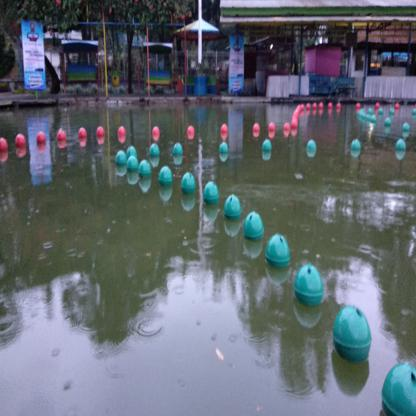green_buoy: (334, 301, 370, 366), (381, 355, 416, 416), (294, 263, 322, 309), (266, 234, 291, 271), (241, 211, 264, 245), (225, 194, 242, 220), (180, 172, 196, 194), (204, 180, 219, 202), (159, 166, 173, 186), (138, 161, 153, 177), (116, 150, 128, 167), (127, 155, 138, 173), (350, 140, 361, 156), (219, 141, 229, 158), (396, 140, 406, 156), (173, 142, 183, 158), (150, 143, 160, 159), (262, 140, 272, 155), (127, 145, 137, 159), (308, 140, 315, 155), (384, 116, 392, 126), (402, 122, 410, 130), (371, 114, 376, 122), (367, 108, 373, 114), (366, 113, 370, 122), (378, 108, 383, 115), (390, 108, 394, 114), (412, 108, 415, 116)
red_buoy: (16, 132, 26, 150), (36, 130, 46, 147), (0, 136, 8, 156), (58, 132, 67, 147), (118, 127, 126, 142), (96, 124, 104, 138), (78, 128, 87, 140), (152, 127, 159, 141), (187, 125, 195, 136), (220, 123, 228, 133), (290, 119, 298, 128), (283, 122, 291, 131), (268, 122, 276, 131), (253, 123, 260, 133), (296, 105, 302, 113), (292, 116, 298, 124), (318, 102, 324, 109), (312, 102, 318, 109), (294, 109, 300, 116), (300, 103, 305, 111), (394, 103, 400, 109), (293, 112, 299, 118), (356, 102, 361, 109), (375, 102, 380, 109), (327, 102, 332, 108), (306, 103, 311, 109), (336, 103, 341, 108)
